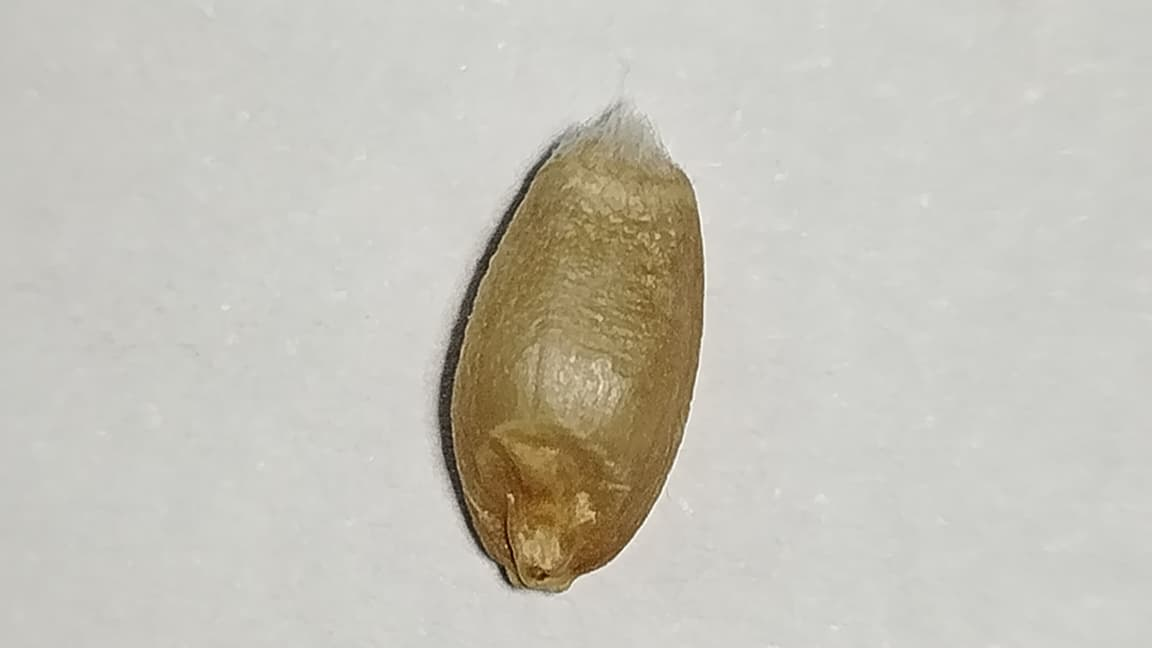healthy: (451, 137, 702, 591)
